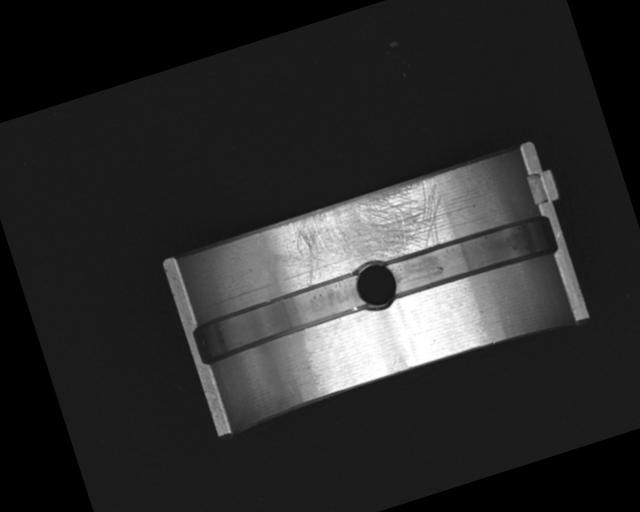gap: (190, 270, 370, 365), (386, 213, 560, 299)
hole: (350, 256, 401, 316)
scratch: (274, 174, 456, 291)
